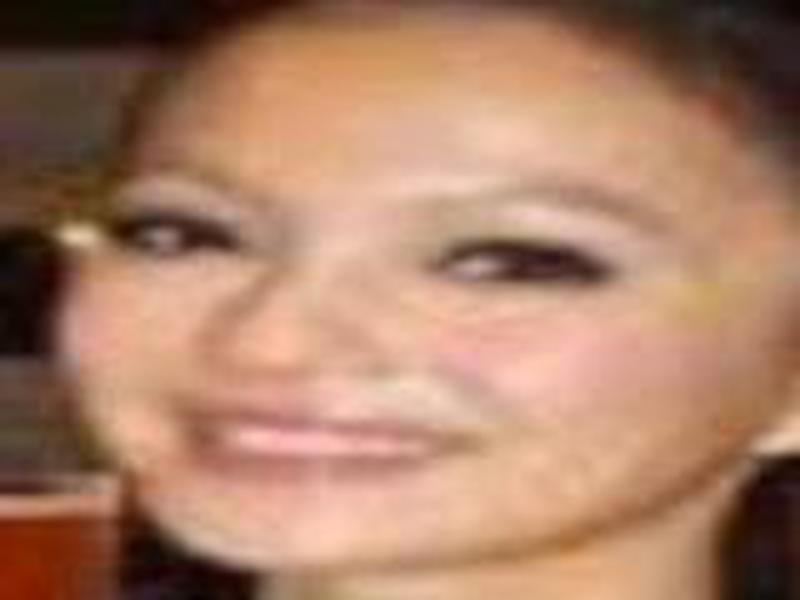without_mask: (51, 38, 751, 574)
